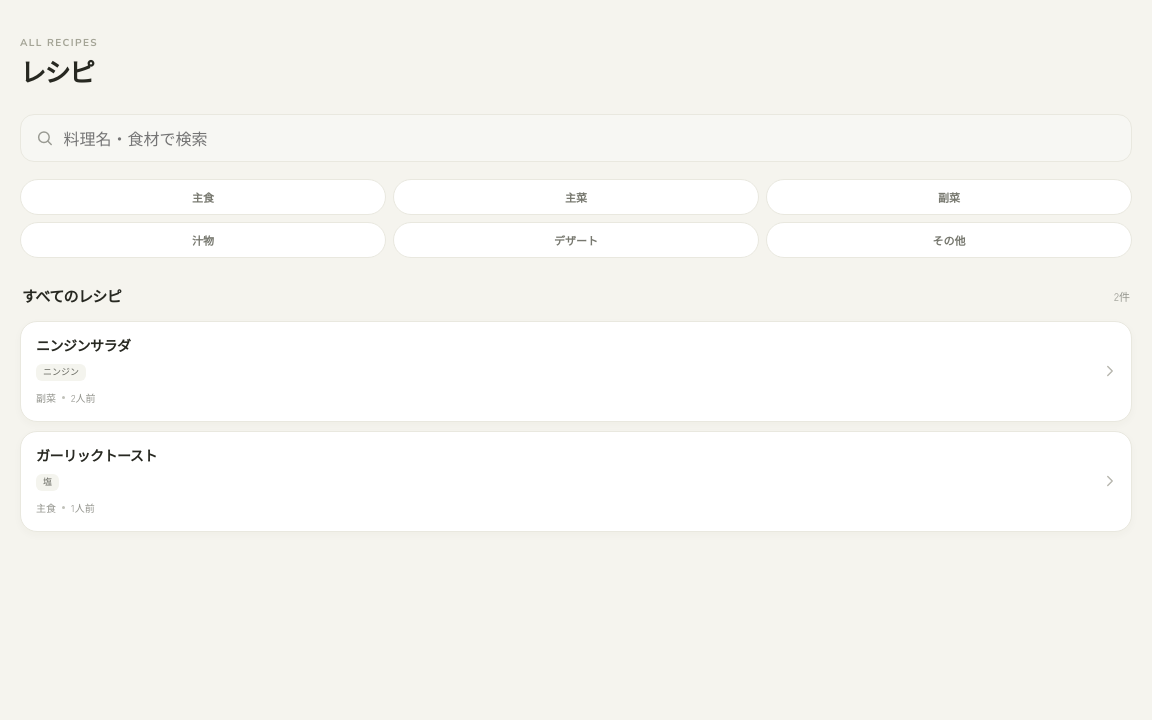
Test: RecipeBook search controls › uses kana-folded multi-word AND search from the domain implementation
Type "にんじん 和食" into the field with placeholder "料理名・食材で検索".
click(590, 138); type("にんじん 和食")  # box [64,125,1117,151]
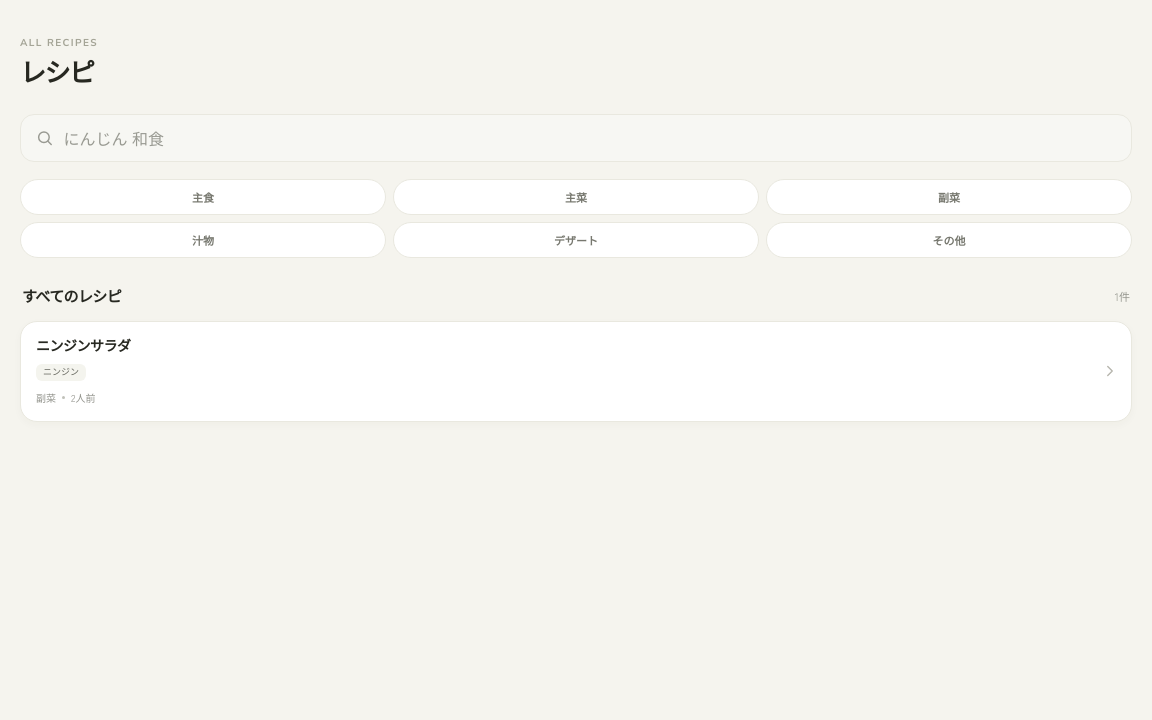
Expected: the heading "ニンジンサラダ" is shown, [36,335,131,355]
Expected: the link "ガーリックトースト" is gone
